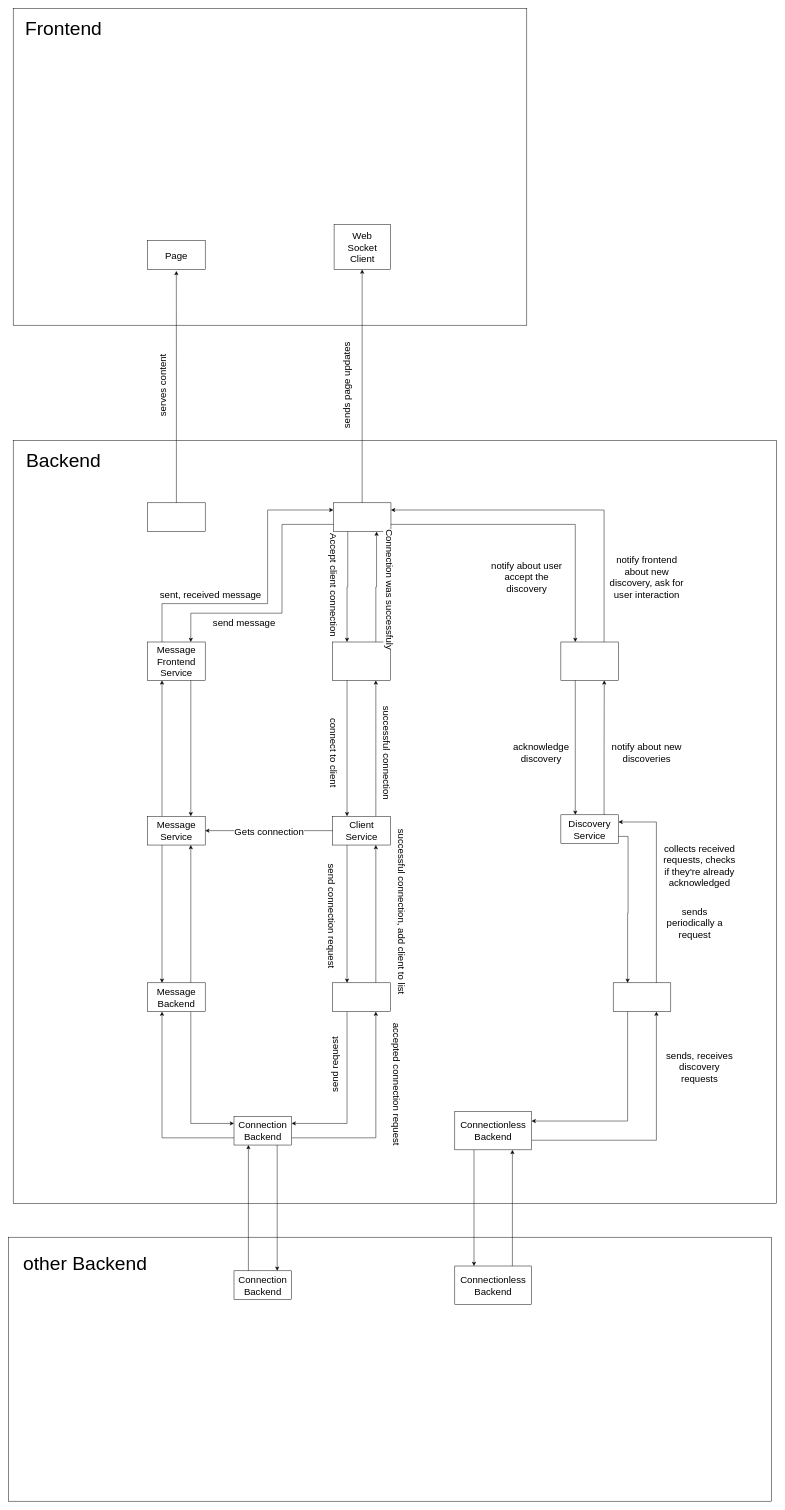
Some shapes in this 785 by 1510 pixel diagram are drawn without their labels. Each missing label, with the centre of its shape:
"Client Backend" goes at (x=361, y=997).
"Client Frontend Service" goes at (x=361, y=661).
"Discovery Backend" goes at (x=642, y=997).
"Discovery Frontend Service" goes at (x=589, y=661).
"Web Server" goes at (x=176, y=517).
"Web Socket" goes at (x=362, y=517).
